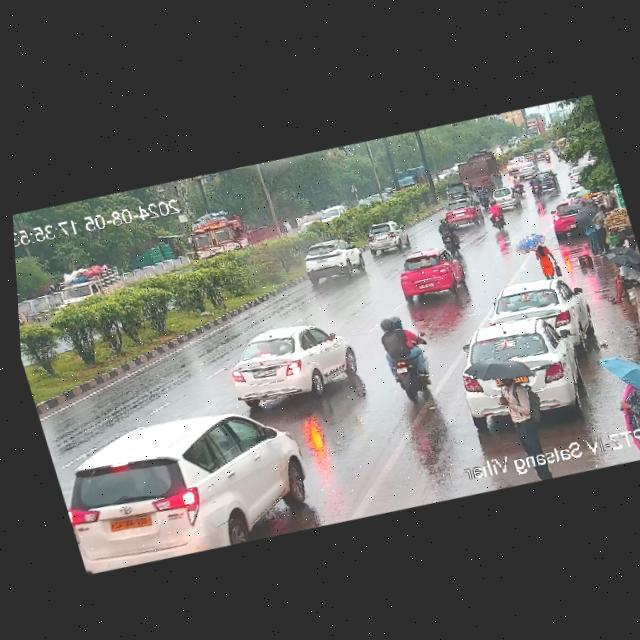car: (47, 387, 328, 583), (442, 302, 603, 437), (211, 309, 365, 414), (483, 269, 590, 348), (389, 241, 469, 305), (300, 242, 369, 289), (49, 274, 108, 312), (547, 195, 598, 237), (365, 221, 414, 257), (436, 198, 484, 231), (503, 147, 544, 180), (483, 182, 526, 213), (523, 167, 561, 200), (440, 179, 473, 203), (511, 158, 543, 180)
motorcycle: (372, 308, 439, 403), (480, 198, 514, 233), (436, 214, 462, 252), (527, 172, 544, 198), (509, 173, 525, 198), (542, 149, 552, 162)
person: (481, 360, 551, 453), (593, 250, 640, 306), (570, 200, 612, 261), (608, 354, 640, 432), (528, 238, 563, 284)
truck: (180, 191, 289, 265), (450, 150, 505, 192)
